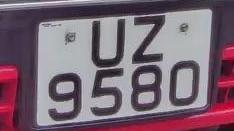0: (165, 58, 205, 112)
5: (87, 65, 126, 117)
8: (126, 60, 166, 117)
9: (41, 67, 89, 122)
U: (85, 16, 131, 69)
Z: (125, 9, 174, 66)
